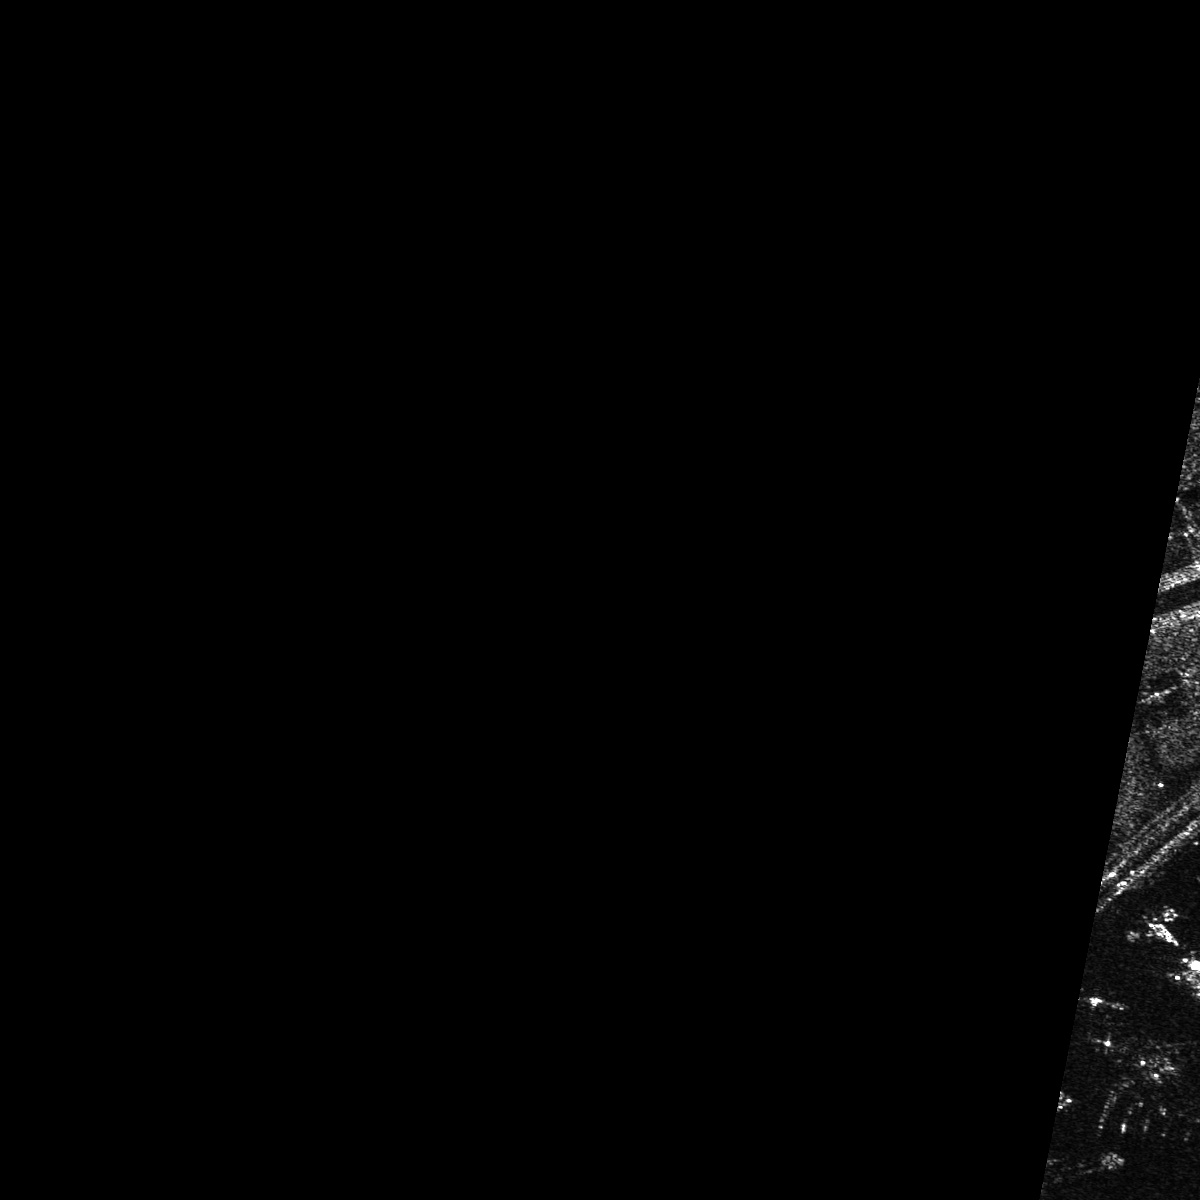Boeing787: (1095, 1033, 1199, 1147)
